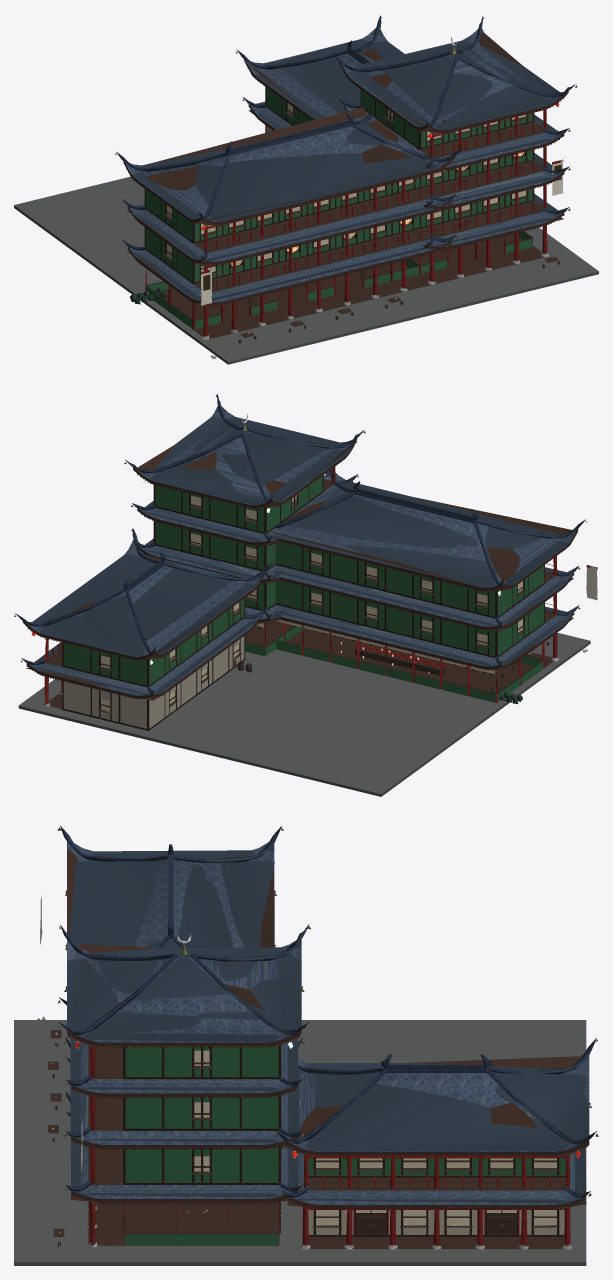
File: prop_tavern_great.gltf
The picture shows the model from 3 angles, top to bottom: view 1: azimuth 30°, elevation 25°; view 2: azimuth 150°, elevation 25°; view 3: azimuth 270°, elevation 25°; orthographic projection. The views are drawn at different scales.
Visible parts, largest first — view 1: Far, Near; view 2: Far, Near; view 3: Far, Near.
Part boxes in pixels (bbox=[...]): Far: bbox=[14, 16, 598, 364]; Near: bbox=[115, 15, 577, 358]; Far: bbox=[18, 395, 597, 796]; Near: bbox=[14, 394, 597, 730]; Far: bbox=[14, 826, 596, 1265]; Near: bbox=[37, 826, 598, 1249].
Bounding box in the file's own units: 44.22 × 22.69 × 42.92.
Materials: 32 (20 with a texture image).
